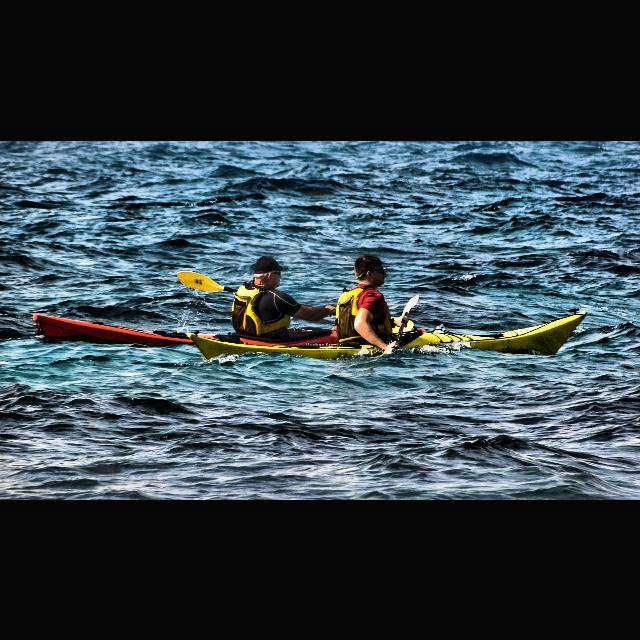kayak: (187, 309, 587, 361), (33, 310, 411, 350)
